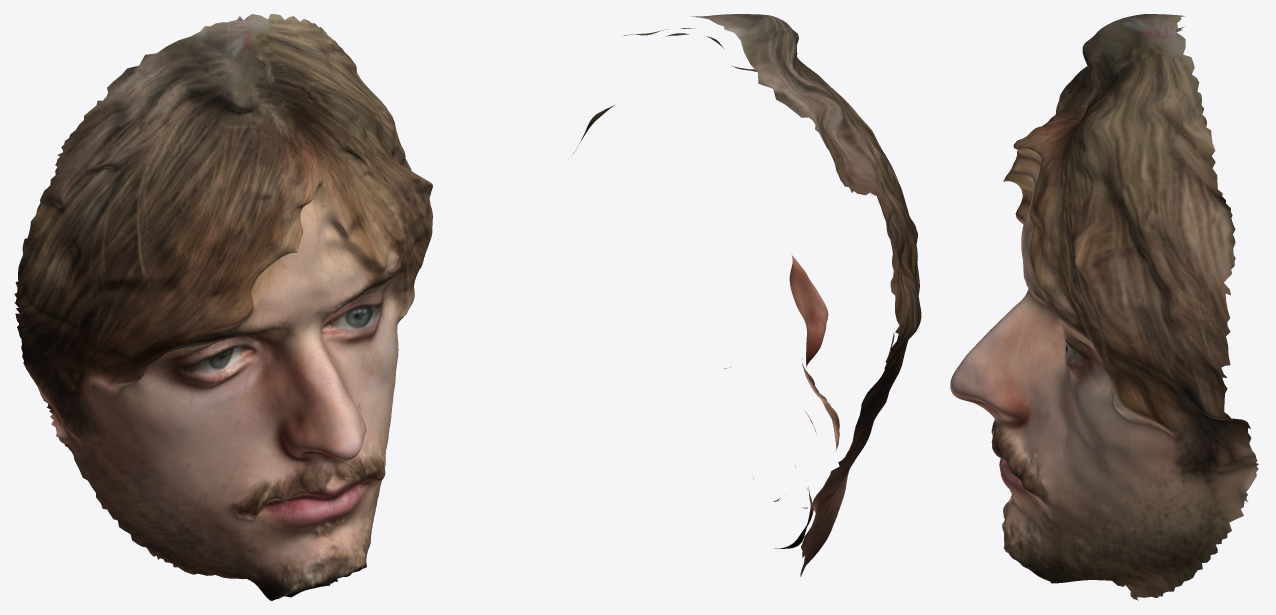
The model's file is head.glb.
The picture shows the model from 3 angles, left to right: view 1: azimuth 30°, elevation 25°; view 2: azimuth 150°, elevation 25°; view 3: azimuth 270°, elevation 25°; orthographic projection. The views are drawn at different scales.
Size of the model in its own units: 0.7441 by 0.9591 by 0.498.
1 material, 1 textured.
